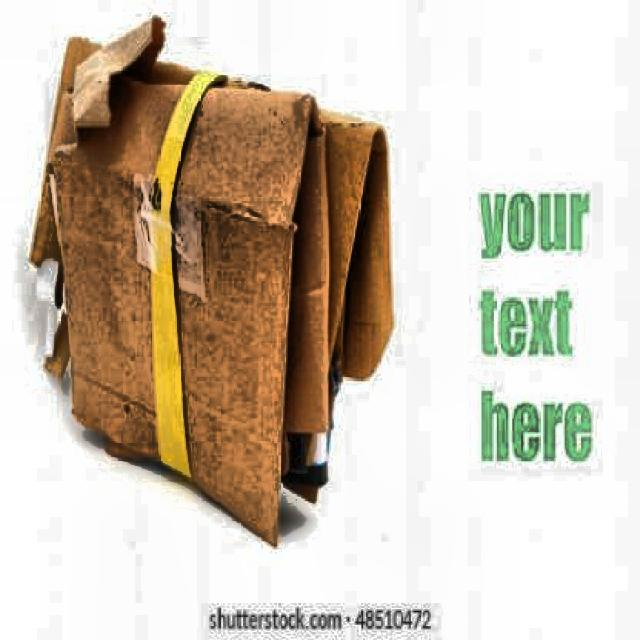Cardbox: (47, 36, 396, 552)
